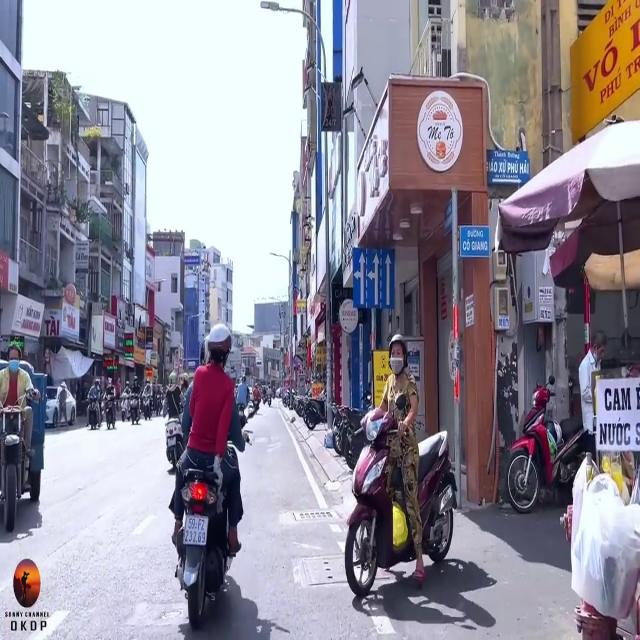bien_trang: (180, 514, 210, 548)
